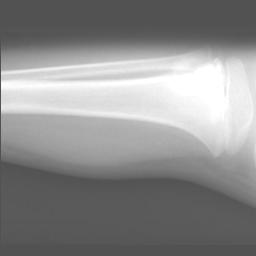cancer: (168, 54, 203, 99)
